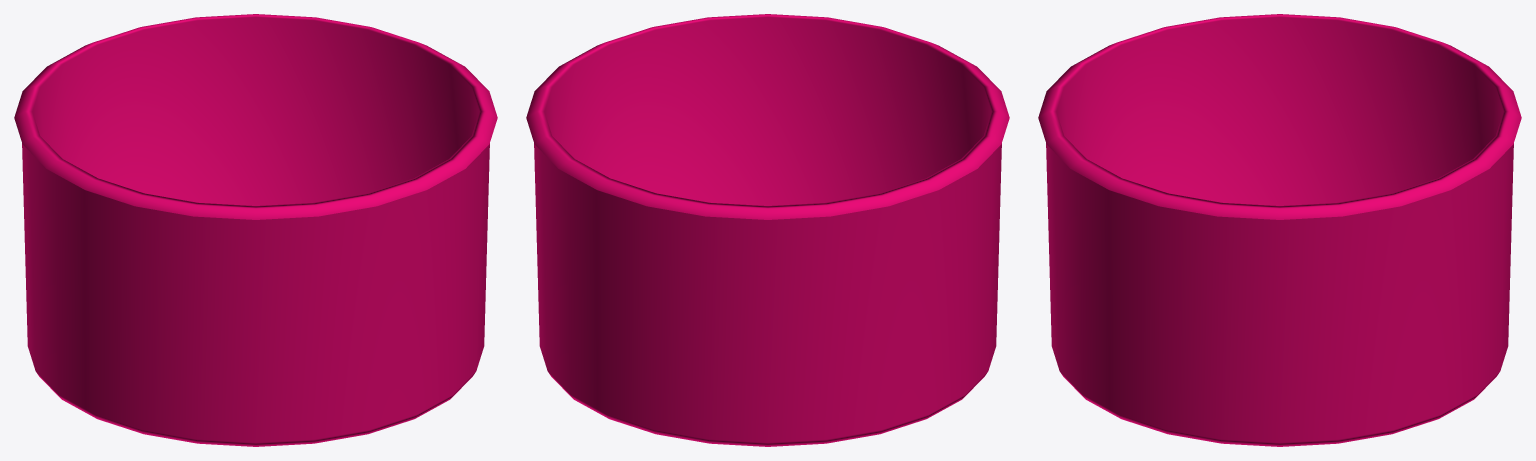
The model's file is Brasero_02_Pan_Lod0.fbx.
The picture shows the model from 3 angles, left to right: view 1: azimuth 30°, elevation 25°; view 2: azimuth 150°, elevation 25°; view 3: azimuth 270°, elevation 25°; orthographic projection.
Visible parts, largest first — view 1: Brasero_02_Pan_Lod0; view 2: Brasero_02_Pan_Lod0; view 3: Brasero_02_Pan_Lod0.
Part boxes in pixels (bbox=[...]): Brasero_02_Pan_Lod0: bbox=[14, 14, 497, 446]; Brasero_02_Pan_Lod0: bbox=[526, 14, 1009, 446]; Brasero_02_Pan_Lod0: bbox=[1038, 14, 1521, 446].
Size of the model in its own units: 29.53 by 16.41 by 29.53.
